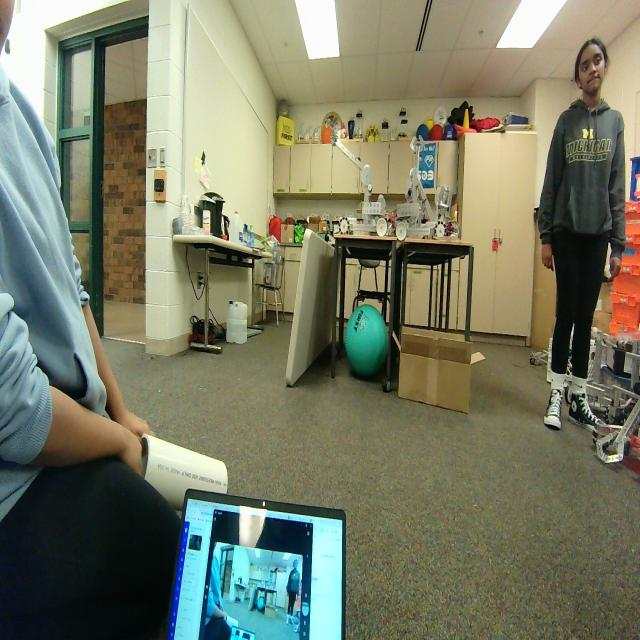algae: (344, 304, 388, 378)
coral: (141, 432, 227, 516)
